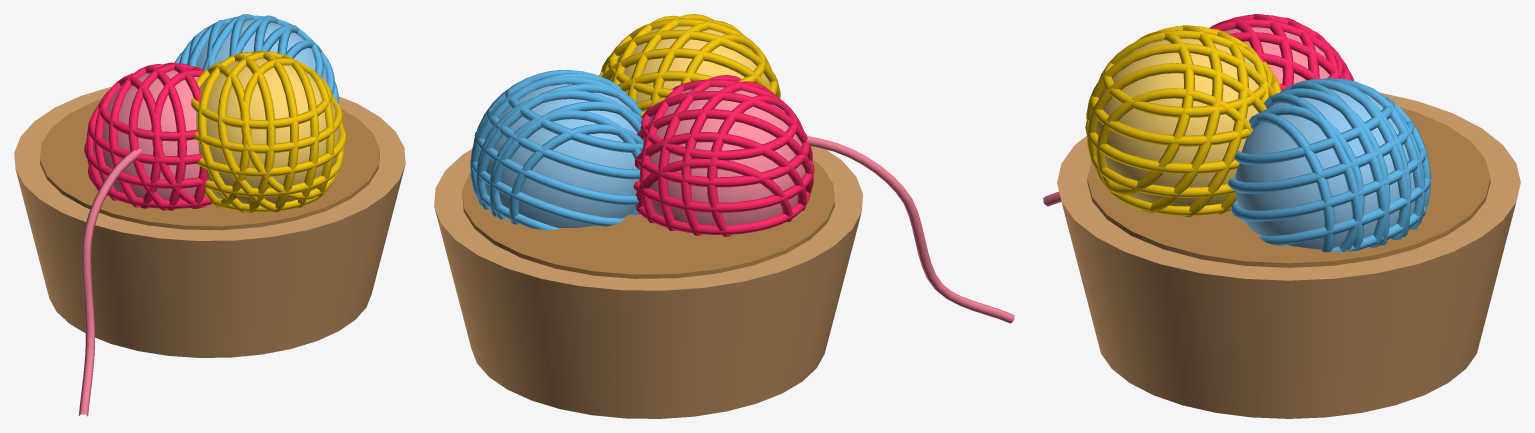
The model's file is yarn.glb.
3 views of the same model, side by side, from view 1: azimuth 30°, elevation 25°; view 2: azimuth 150°, elevation 25°; view 3: azimuth 270°, elevation 25° (orthographic). The views are drawn at different scales.
Size of the model in its own units: 1.09 by 0.6719 by 0.9476.
